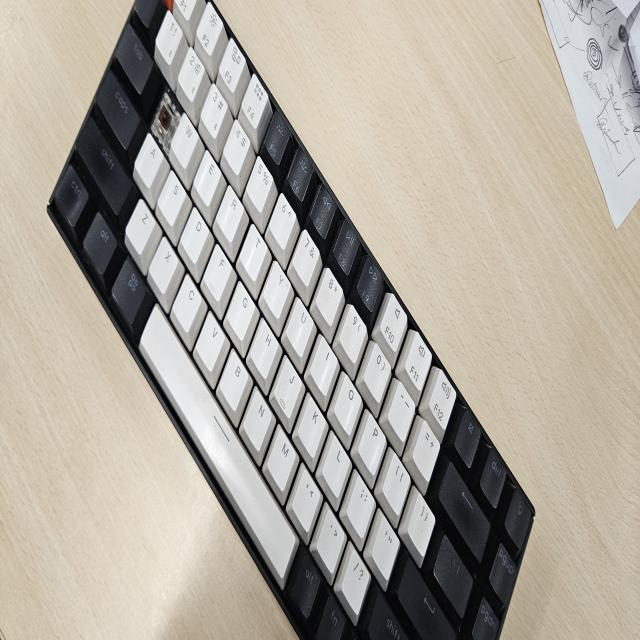C: (153, 88, 175, 142)
